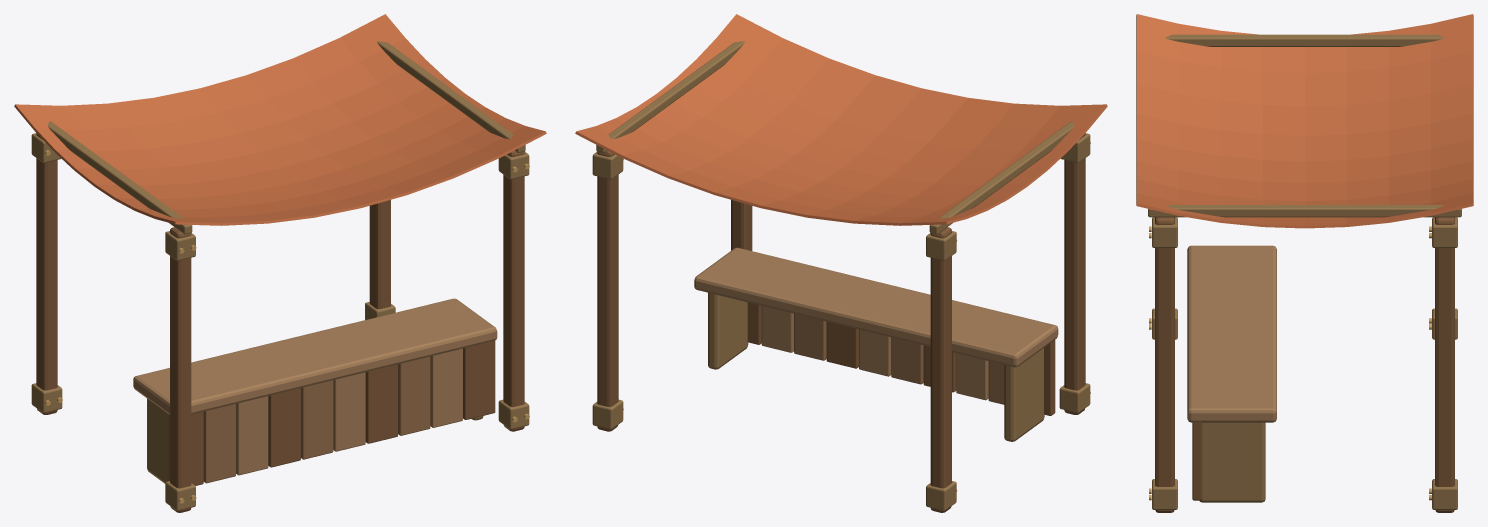
Rendered from canopy_stall.glb.
3 views of the same model, side by side, from view 1: azimuth 30°, elevation 25°; view 2: azimuth 150°, elevation 25°; view 3: azimuth 270°, elevation 25° (orthographic). The views are drawn at different scales.
Visible parts, largest first — view 1: canopy_stall; view 2: canopy_stall; view 3: canopy_stall.
Boxes of the visible parts, x1=… form: canopy_stall: x1=14, y1=14, x2=546, y2=512; canopy_stall: x1=575, y1=14, x2=1107, y2=512; canopy_stall: x1=1136, y1=14, x2=1473, y2=512.
Size of the model in its own units: 4.01 by 3.12 by 3.01.
